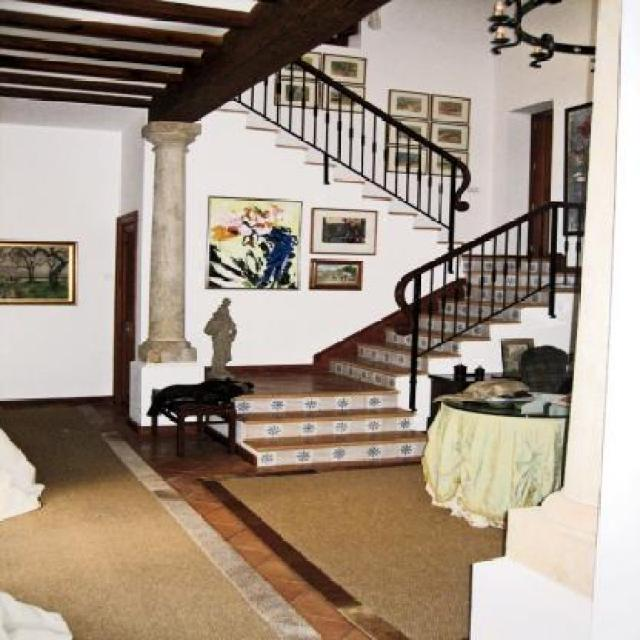stair: (223, 156, 594, 464)
